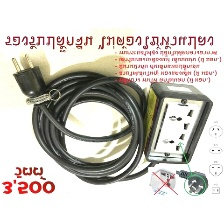three_eye_plug: (136, 78, 214, 168)
